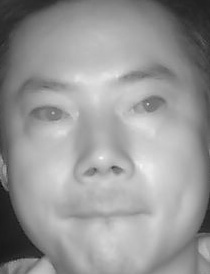eye: (126, 91, 172, 122), (26, 102, 76, 130)
mouth: (57, 191, 157, 242)
